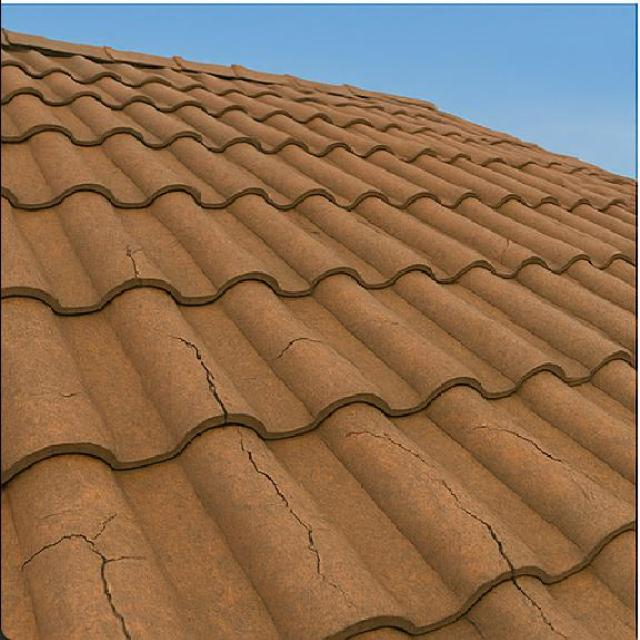fissure: (157, 329, 356, 607), (334, 420, 578, 640), (11, 510, 149, 640), (458, 409, 574, 469)
